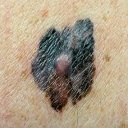Melanoma: (35, 18, 96, 108)
